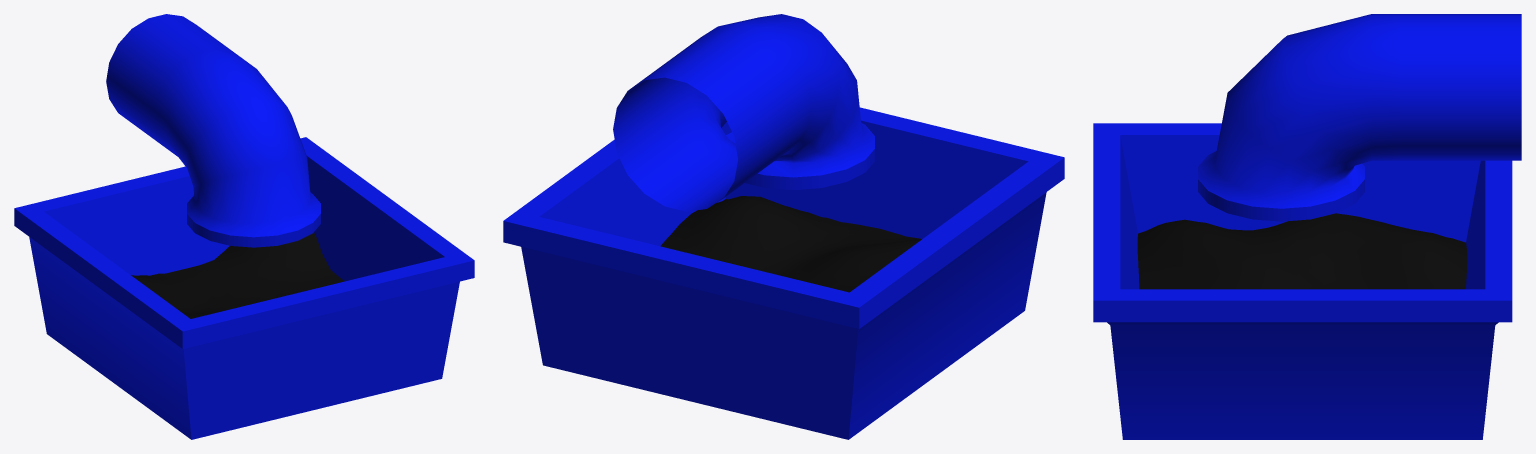
Rendered from OreShoot.FBX.
3 renders of one model, left to right at view 1: azimuth 30°, elevation 25°; view 2: azimuth 150°, elevation 25°; view 3: azimuth 270°, elevation 25°, orthographic. The views are drawn at different scales.
Parts seen in each view (by area): view 1: Bin, Pipe, Dirt; view 2: Bin, Pipe, Dirt; view 3: Bin, Pipe, Dirt.
Part boxes in pixels (x1,y1,x2,y2): Bin: (14, 137, 474, 439); Pipe: (106, 14, 320, 247); Dirt: (131, 232, 344, 318); Bin: (503, 107, 1064, 439); Pipe: (613, 14, 874, 211); Dirt: (660, 196, 921, 292); Bin: (1093, 123, 1512, 439); Pipe: (1198, 14, 1521, 221); Dirt: (1137, 213, 1467, 289).
Size of the model in its own units: 78.74 by 71.08 by 80.49.
